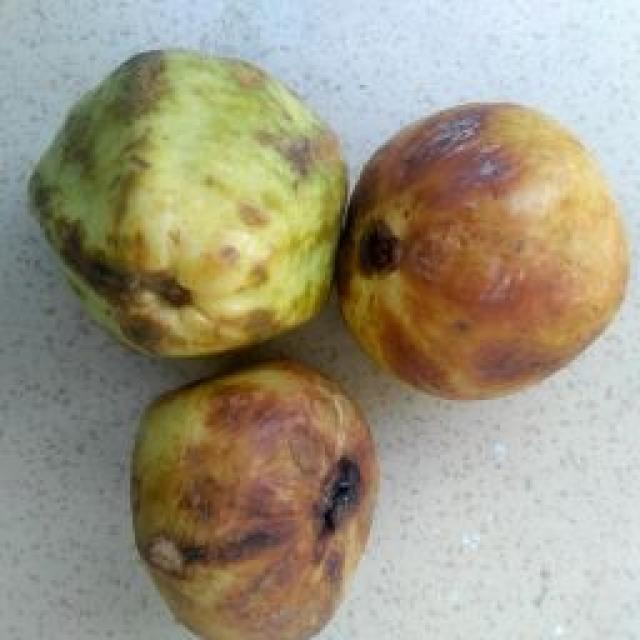Bad_Guava: (336, 102, 629, 398), (131, 361, 379, 640)
